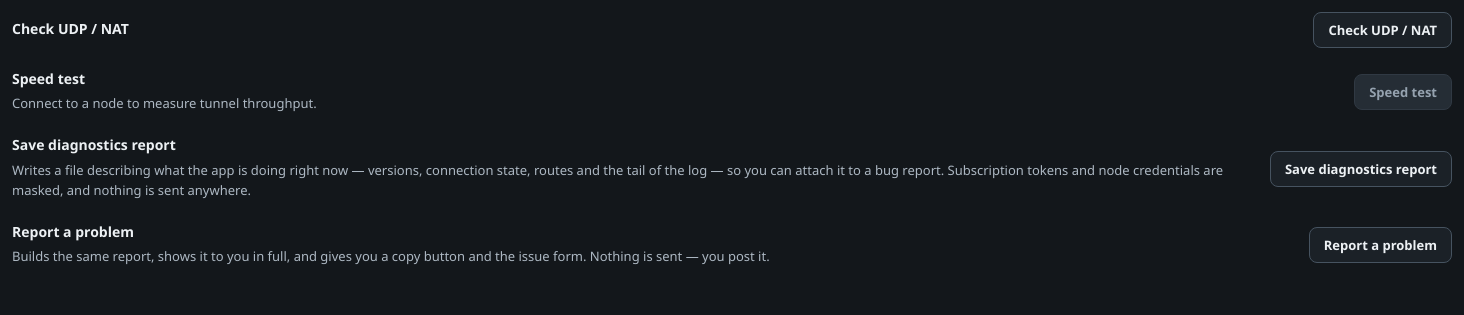
Test: DiagnosticsPanel › STUN / NAT probe › surfaces a probe failure as an alert and shows no facts
The image size is (1464, 315).
Step 1. Click the button "Check UDP / NAT" → click(1383, 30), box [1314,12,1452,48]
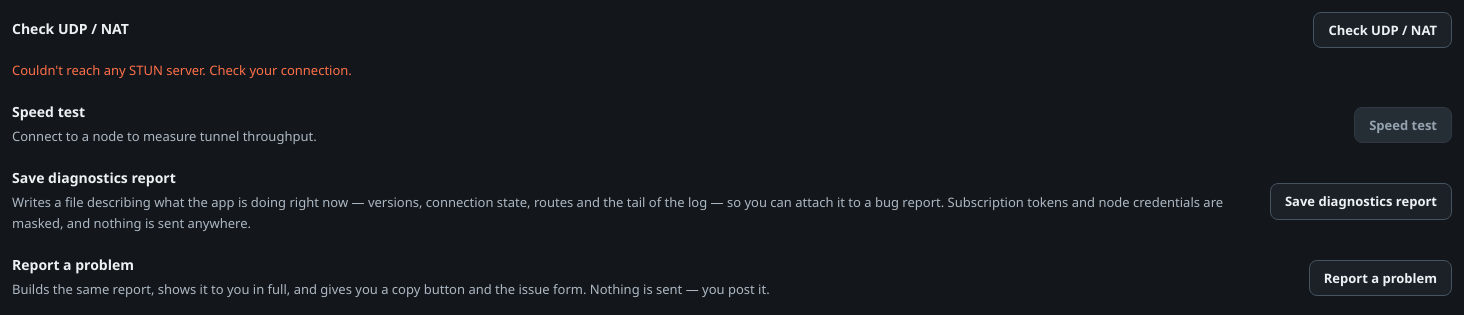
Expected: the message shows "Couldn't reach any STUN server", [12,61,352,79]
